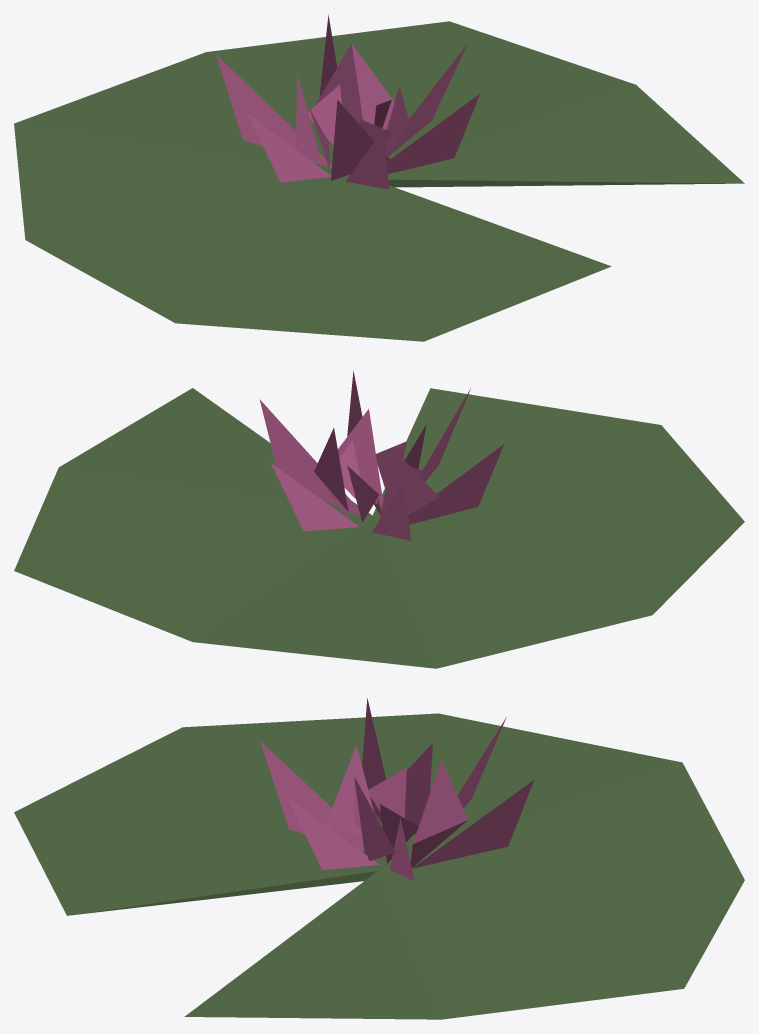
The model's file is Lilypad.lod3.glb.
The picture shows the model from 3 angles, top to bottom: view 1: azimuth 30°, elevation 25°; view 2: azimuth 150°, elevation 25°; view 3: azimuth 270°, elevation 25°; orthographic projection. The views are drawn at different scales.
Visible parts, largest first — view 1: Lilypad; view 2: Lilypad; view 3: Lilypad.
Boxes of the visible parts, left/top/right/bottom form: Lilypad: left=14, top=14, right=744, bottom=341; Lilypad: left=14, top=370, right=744, bottom=668; Lilypad: left=14, top=698, right=744, bottom=1019.
Size of the model in its own units: 1.2 by 0.2235 by 1.19.
